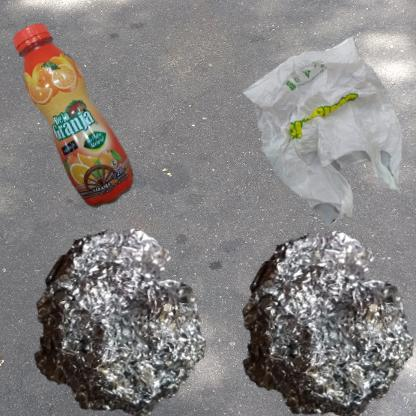aluminio: (10, 213, 227, 416), (213, 213, 416, 416)
bolsa: (213, 10, 416, 252)
botella: (10, 10, 156, 246)
